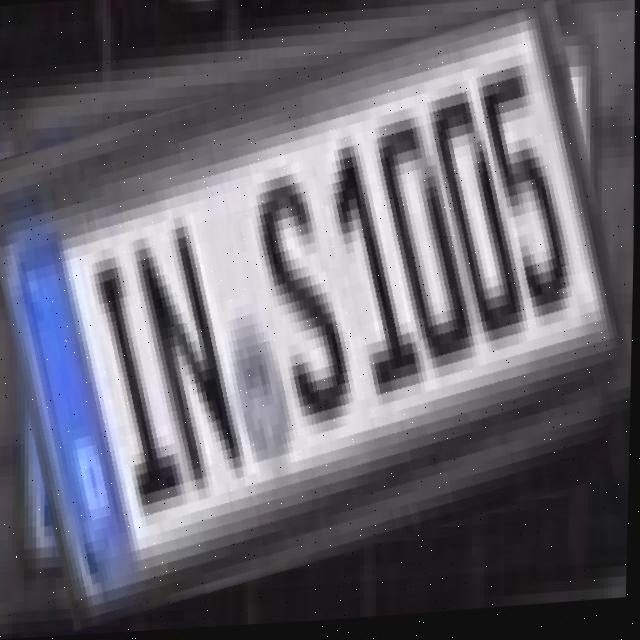LicensePlate: (0, 28, 639, 609)
